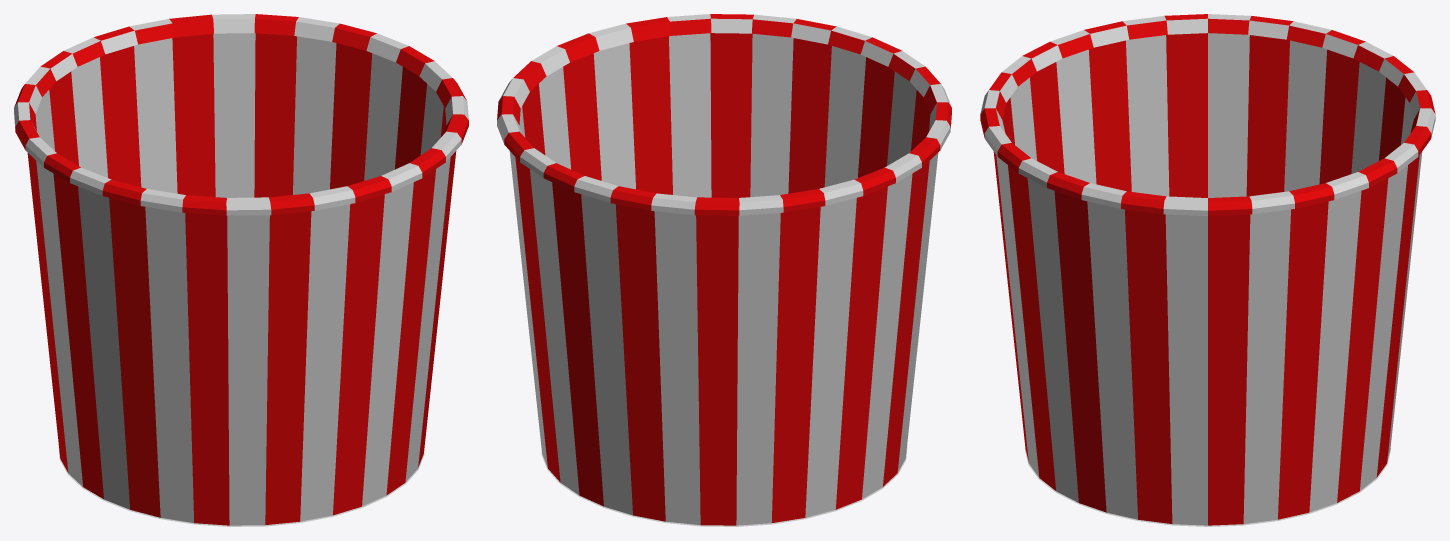
File: PopcornBucketRoundGood.fbx
3 views of the same model, side by side, from view 1: azimuth 30°, elevation 25°; view 2: azimuth 150°, elevation 25°; view 3: azimuth 270°, elevation 25° (orthographic).
Visible parts, largest first — view 1: PopcornBucket; view 2: PopcornBucket; view 3: PopcornBucket.
Boxes of the visible parts, x1=… form: PopcornBucket: x1=14, y1=14, x2=468, y2=526; PopcornBucket: x1=497, y1=14, x2=951, y2=526; PopcornBucket: x1=980, y1=14, x2=1435, y2=526.
Bounding box in the file's own units: 355 × 293 × 355.
